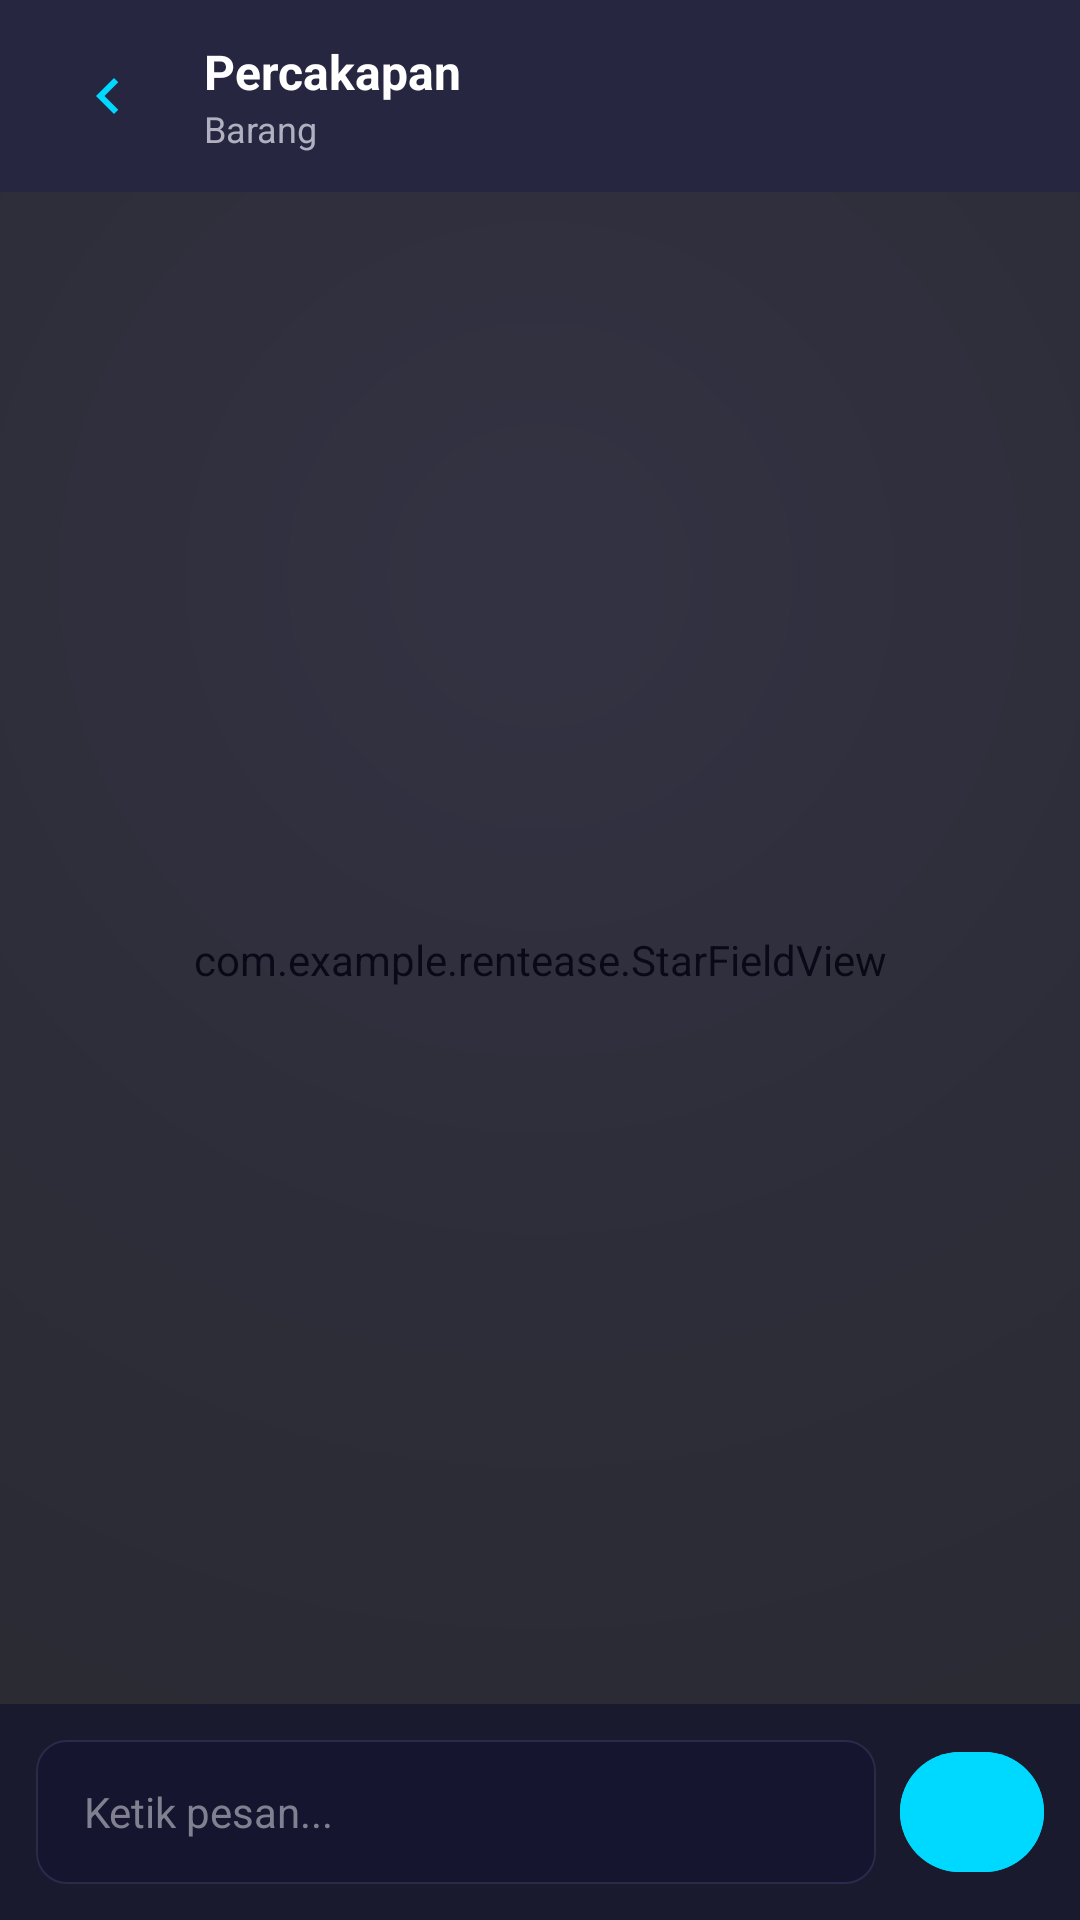

Point at icon controls on the screen. Image size 1080w x 1920h, points as (x,y).
Kembali: (107,96)
